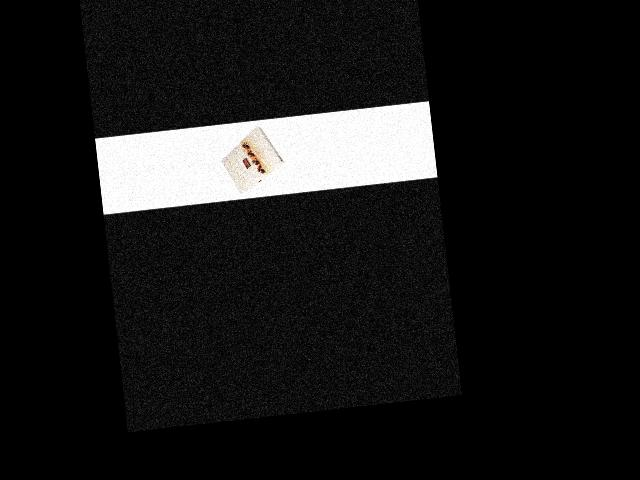chocolate: (218, 118, 288, 196)
